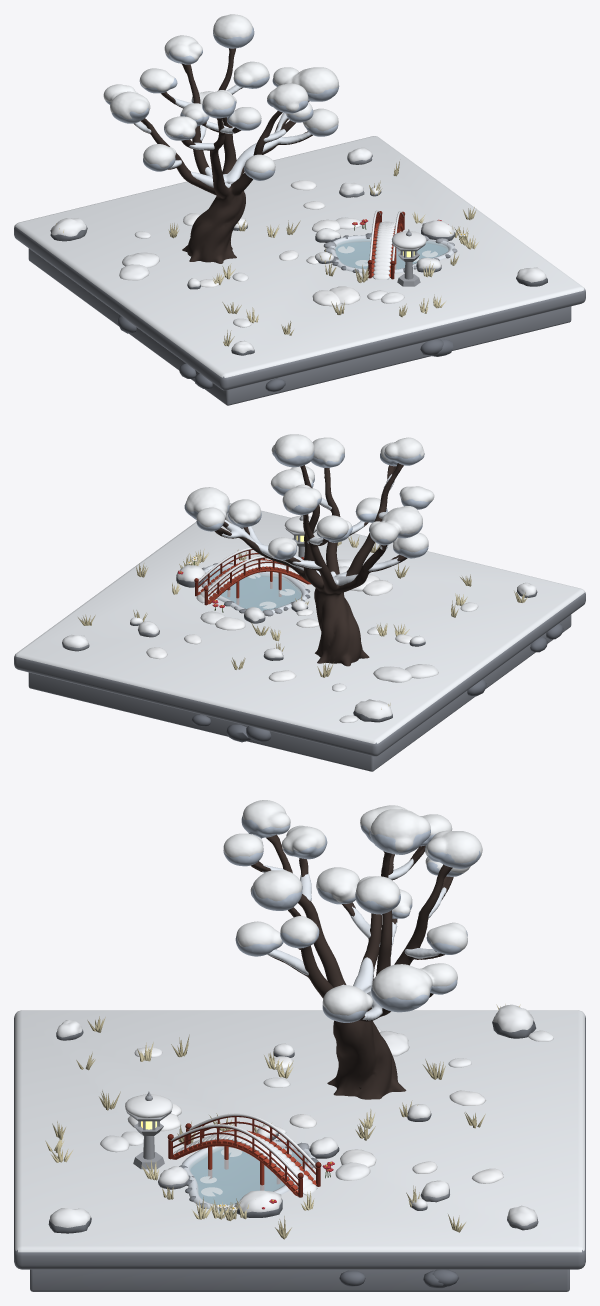
The model's file is winter.glb.
3 views of the same model, one above another, from view 1: azimuth 30°, elevation 25°; view 2: azimuth 150°, elevation 25°; view 3: azimuth 270°, elevation 25° (orthographic). The views are drawn at different scales.
Visible parts, largest first — view 1: Base, Blossoms, Trunk, Grass, Snow, Water, Rocks, Pond, Bridge, Lantern; view 2: Base, Blossoms, Trunk, Grass, Snow, Water, Bridge, Pond, Rocks; view 3: Base, Blossoms, Trunk, Grass, Snow, Bridge, Water, Rocks, Pond, Lantern.
Part boxes in pixels (left/top/right/bottom): Base: left=14, top=136, right=585, bottom=405; Blossoms: left=103, top=14, right=339, bottom=187; Trunk: left=134, top=48, right=312, bottom=263; Grass: left=53, top=161, right=478, bottom=346; Snow: left=51, top=147, right=546, bottom=353; Water: left=335, top=239, right=448, bottom=269; Rocks: left=50, top=155, right=547, bottom=355; Pond: left=323, top=233, right=457, bottom=273; Bridge: left=367, top=211, right=404, bottom=279; Lantern: left=392, top=229, right=425, bottom=286; Base: left=14, top=503, right=585, bottom=771; Blossoms: left=184, top=434, right=434, bottom=585; Trunk: left=214, top=463, right=407, bottom=666; Grass: left=78, top=536, right=528, bottom=722; Snow: left=62, top=513, right=536, bottom=719; Water: left=207, top=567, right=301, bottom=610; Bridge: left=194, top=549, right=311, bottom=605; Pond: left=201, top=563, right=310, bottom=616; Rocks: left=62, top=527, right=537, bottom=722; Base: left=14, top=1010, right=585, bottom=1291; Blossoms: left=223, top=800, right=482, bottom=1022; Trunk: left=251, top=834, right=453, bottom=1099; Grass: left=45, top=1004, right=553, bottom=1239; Snow: left=50, top=1004, right=537, bottom=1227; Bridge: left=167, top=1116, right=321, bottom=1197; Water: left=189, top=1146, right=306, bottom=1204; Rocks: left=48, top=1013, right=538, bottom=1233; Pond: left=179, top=1140, right=318, bottom=1211; Lantern: left=126, top=1091, right=171, bottom=1169.
Size of the model in its own units: 72 by 48.13 by 72.
